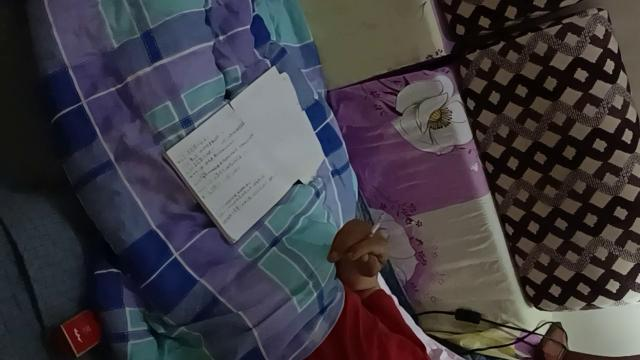Smoking: (363, 212, 385, 242)
